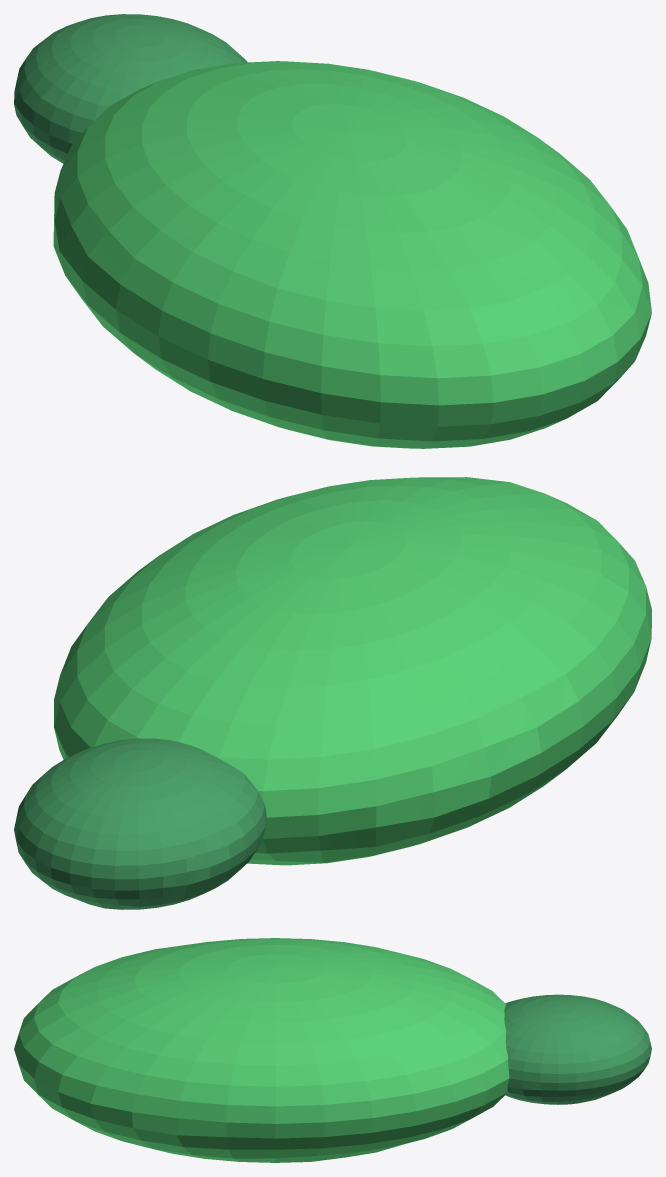
File: amoebaGreen1.glb
3 renders of one model, top to bottom at view 1: azimuth 30°, elevation 25°; view 2: azimuth 150°, elevation 25°; view 3: azimuth 270°, elevation 25°, orthographic. The views are drawn at different scales.
Visible parts, largest first — view 1: Sphere, Sphere.001; view 2: Sphere, Sphere.001; view 3: Sphere, Sphere.001.
Boxes of the visible parts, bbox=[...] form: Sphere: bbox=[53, 61, 651, 448]; Sphere.001: bbox=[14, 14, 247, 163]; Sphere: bbox=[54, 477, 651, 865]; Sphere.001: bbox=[14, 738, 266, 909]; Sphere: bbox=[14, 938, 509, 1162]; Sphere.001: bbox=[504, 994, 651, 1104].
Size of the model in its own units: 2.18 by 1.11 by 3.87.
